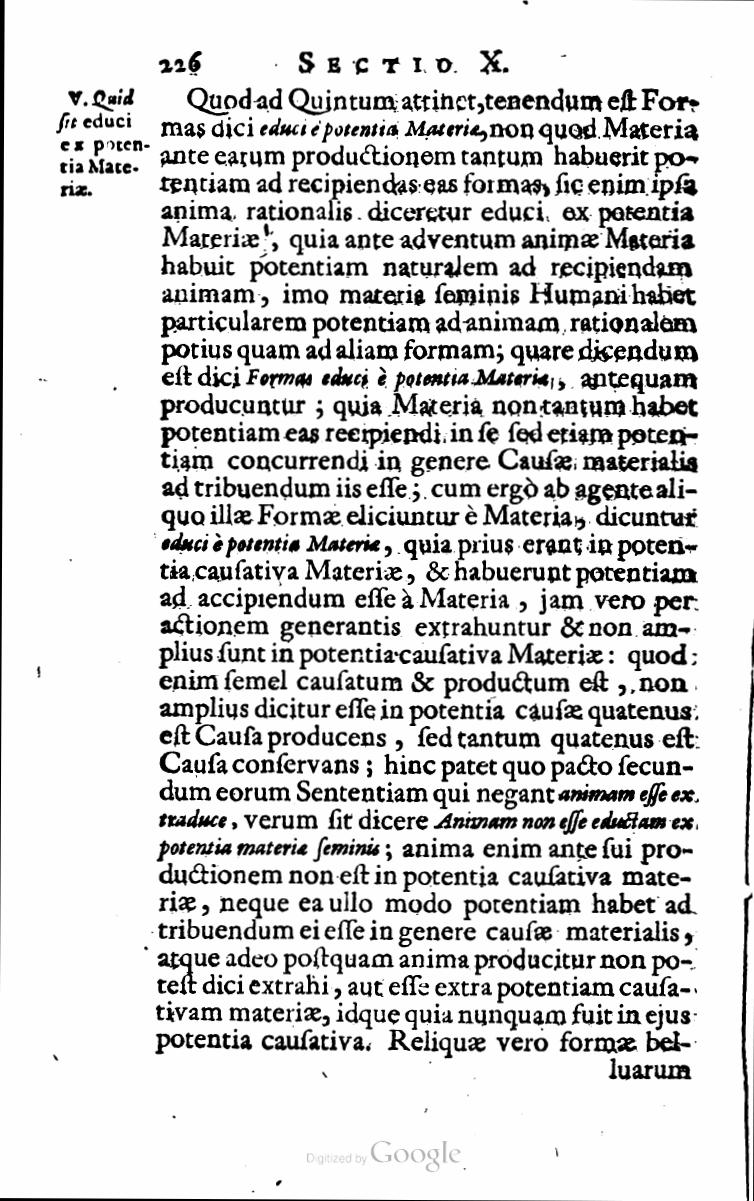catchword: (607, 1053, 692, 1085)
header: (295, 45, 510, 77)
page_num: (157, 45, 203, 77)
print_marg: (53, 83, 152, 200)
top_p: (153, 82, 702, 1057)
